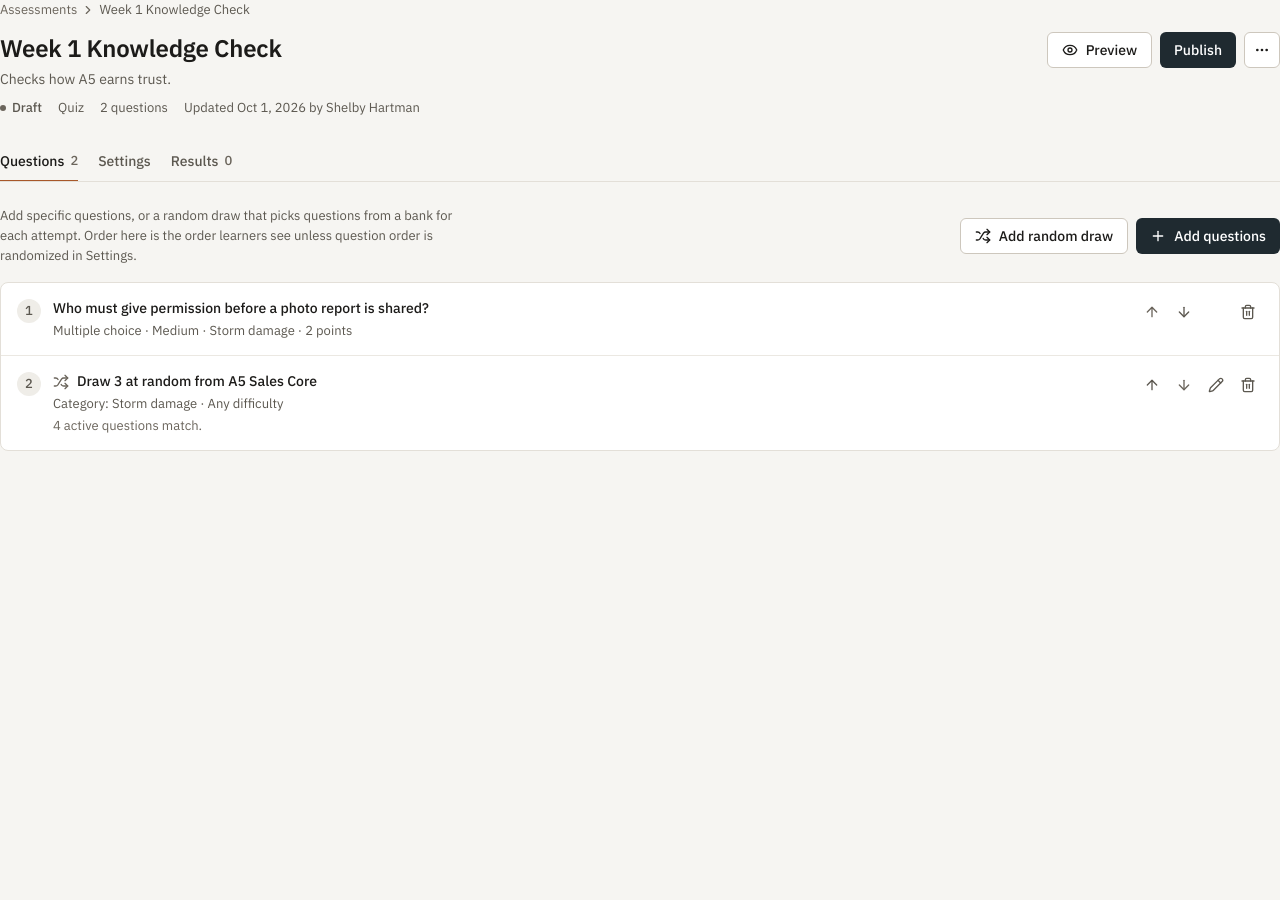
Test: AssessmentBuilderPage › removes an item after confirmation
Later steps or results of the test are not shown.
Click the button named "Remove this question" at (1248, 312), box x1=1233 y1=297 x2=1263 y2=327
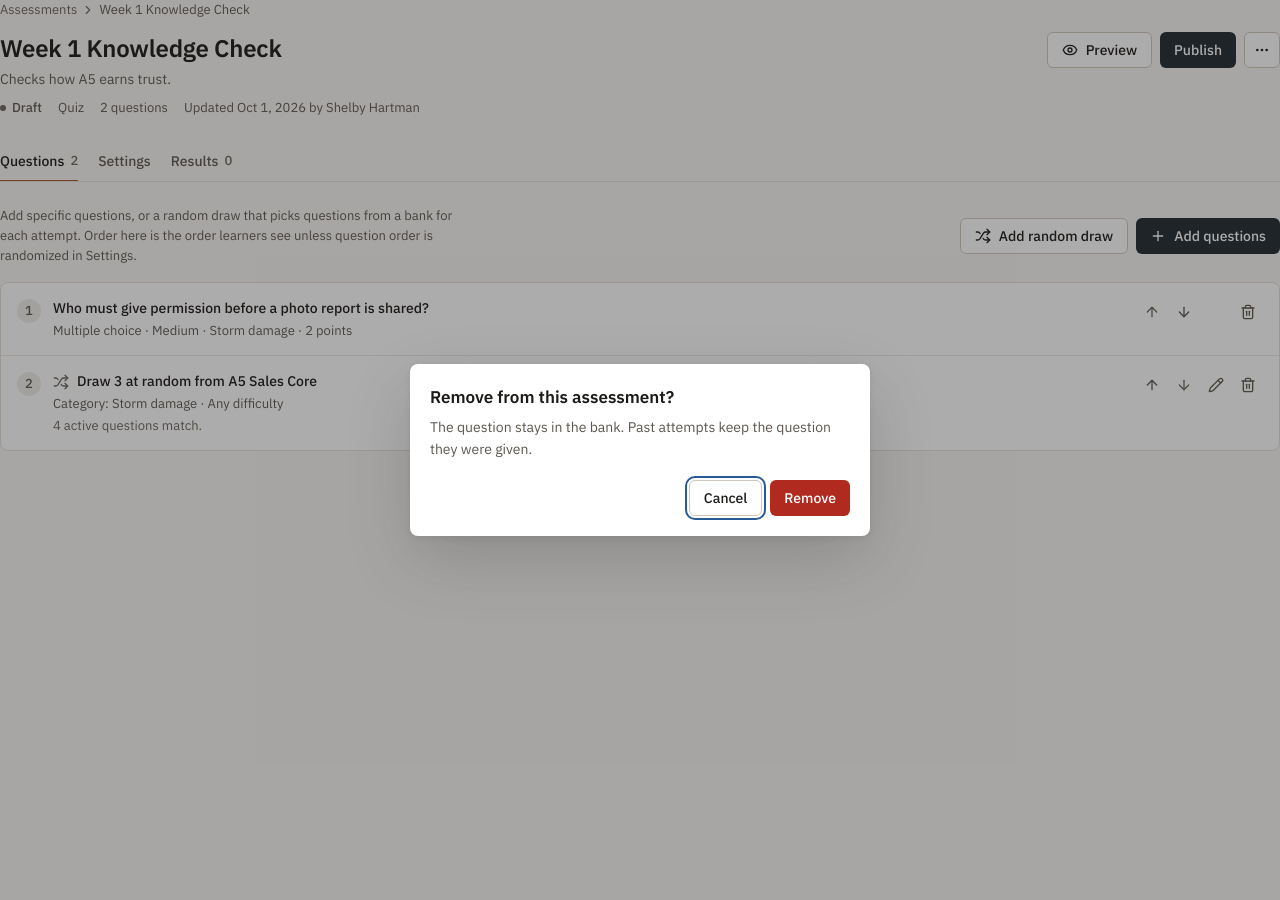
Now the dialog shows "The question stays in the bank.", box x1=430 y1=418 x2=831 y2=458
